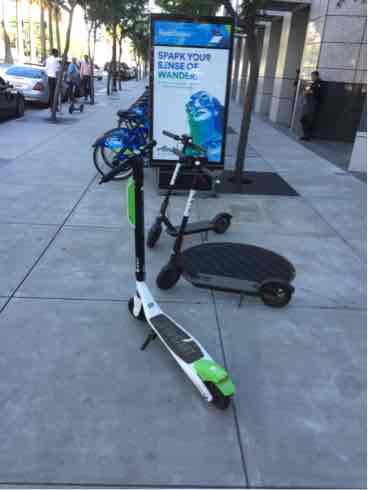scooter: (88, 126, 238, 415), (144, 125, 295, 298)
